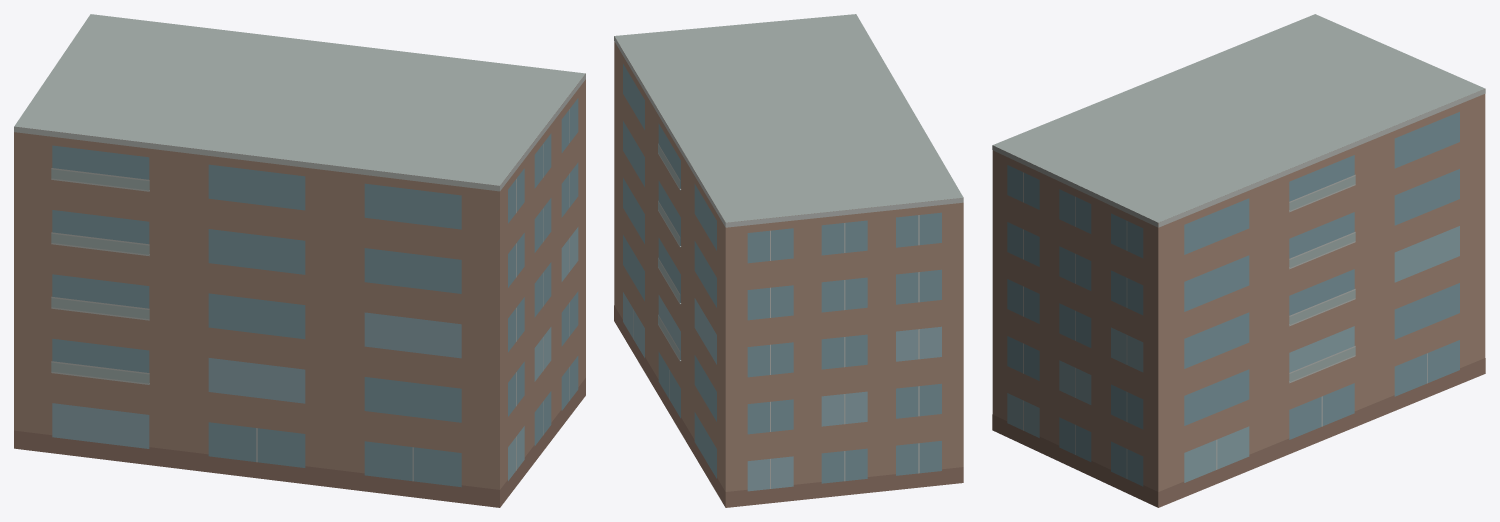
File: survey-upis-32811567.glb
The picture shows the model from 3 angles, left to right: view 1: azimuth 30°, elevation 25°; view 2: azimuth 150°, elevation 25°; view 3: azimuth 270°, elevation 25°; orthographic projection. The views are drawn at different scales.
Visible parts, largest first — view 1: survey-upis-32811567.tmp; view 2: survey-upis-32811567.tmp; view 3: survey-upis-32811567.tmp.
Part boxes in pixels (x1,y1,x2,y2): survey-upis-32811567.tmp: [14, 14, 585, 507]; survey-upis-32811567.tmp: [614, 14, 963, 507]; survey-upis-32811567.tmp: [992, 14, 1485, 507].
Size of the model in its own units: 21.99 by 14 by 21.94.
